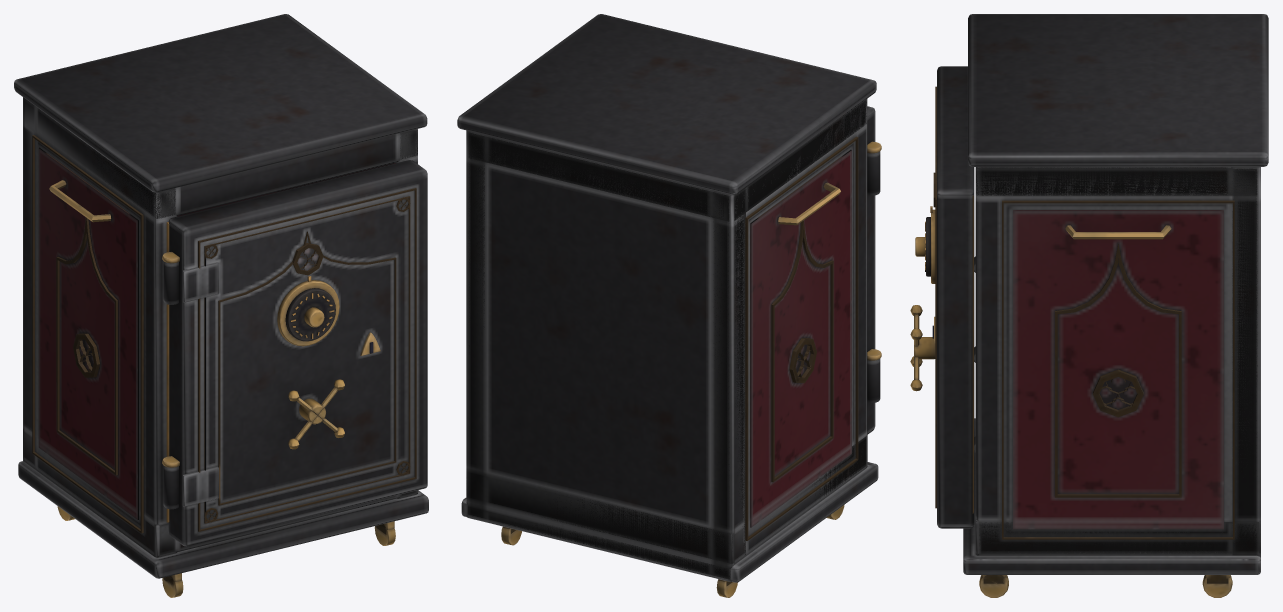
File: Safe.fbx
3 renders of one model, left to right at view 1: azimuth 30°, elevation 25°; view 2: azimuth 150°, elevation 25°; view 3: azimuth 270°, elevation 25°, orthographic. The views are drawn at different scales.
Parts seen in each view (by area): view 1: Safe_Main, Safe_Door0; view 2: Safe_Main, Safe_Door0; view 3: Safe_Main, Safe_Door0.
Boxes of the visible parts, box(x1,y1,x2,y2) form: Safe_Main: box(14, 14, 428, 597); Safe_Door0: box(168, 160, 427, 546); Safe_Main: box(457, 14, 881, 597); Safe_Door0: box(867, 106, 875, 434); Safe_Main: box(963, 14, 1268, 597); Safe_Door0: box(910, 66, 975, 528).
Bounding box in the file's own units: 297 × 407 × 289.
